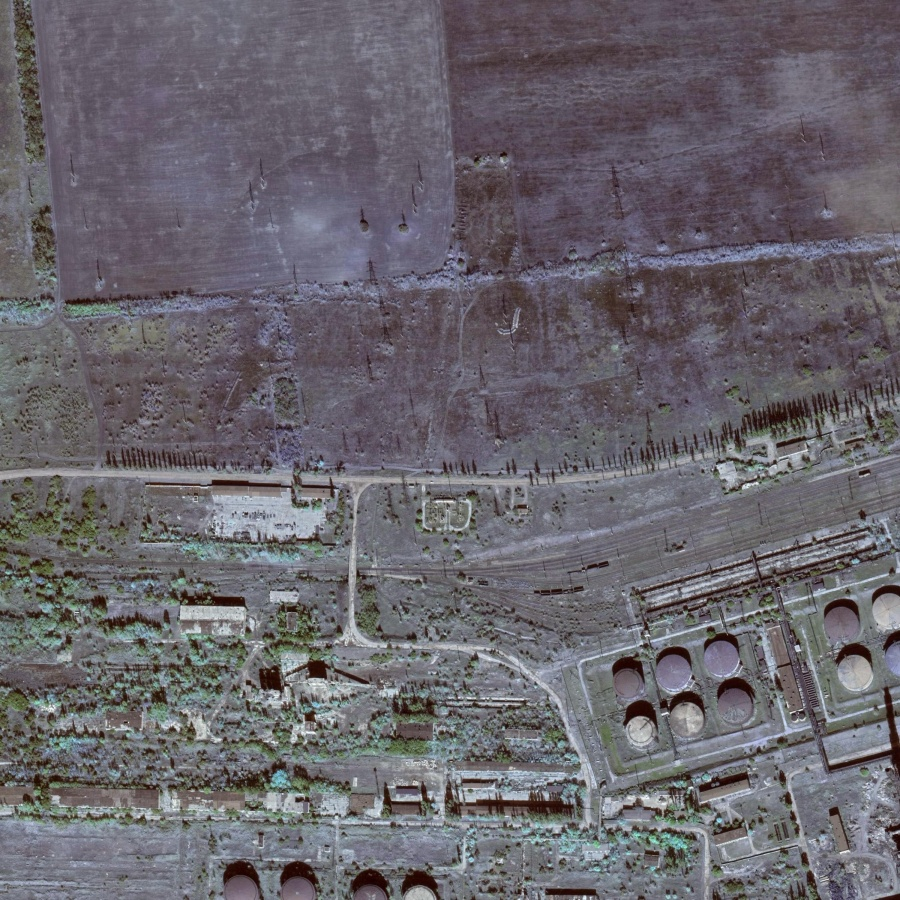PowerPlant: (574, 610, 782, 786)
